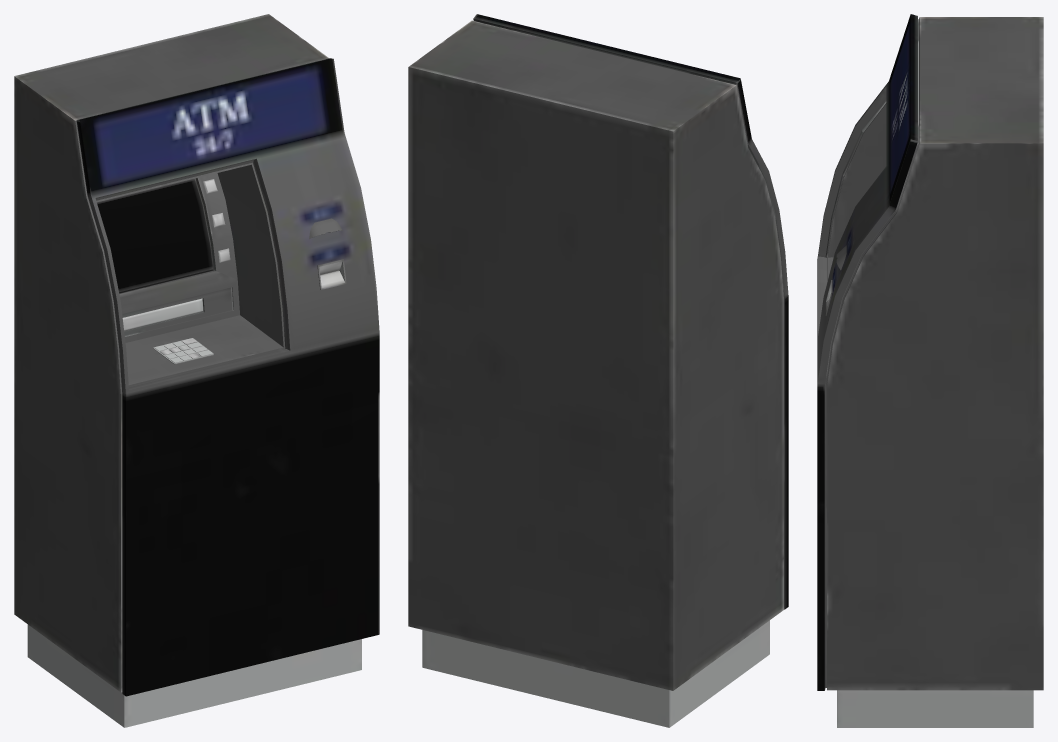
The model's file is ATM.glb.
3 views of the same model, side by side, from view 1: azimuth 30°, elevation 25°; view 2: azimuth 150°, elevation 25°; view 3: azimuth 270°, elevation 25° (orthographic). The views are drawn at different scales.
Visible parts, largest first — view 1: ATM; view 2: ATM; view 3: ATM.
Part boxes in pixels (x1,y1,x2,y2): ATM: (14,14,379,727); ATM: (408,14,788,727); ATM: (817,14,1043,727).
Size of the model in its own units: 0.6731 by 1.47 by 0.51.
1 material, 1 textured.
